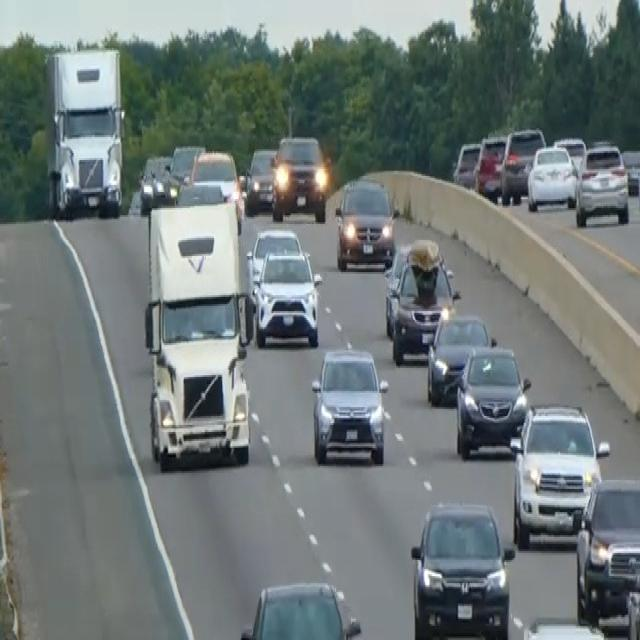car: (509, 400, 609, 548), (409, 498, 514, 638), (574, 475, 639, 631), (310, 343, 389, 466), (454, 341, 530, 459), (390, 236, 457, 364), (238, 578, 362, 638), (251, 247, 322, 347), (425, 308, 496, 406), (333, 174, 396, 270), (177, 148, 243, 230), (270, 132, 328, 222), (574, 140, 629, 228), (245, 226, 303, 293), (500, 124, 546, 204), (526, 142, 577, 212), (381, 240, 411, 336), (514, 614, 616, 638), (473, 131, 507, 201), (138, 151, 176, 212), (243, 144, 277, 212), (167, 142, 205, 192), (452, 138, 481, 188), (553, 134, 586, 174), (621, 146, 639, 196)
lorry: (142, 196, 254, 470), (42, 45, 125, 218)
